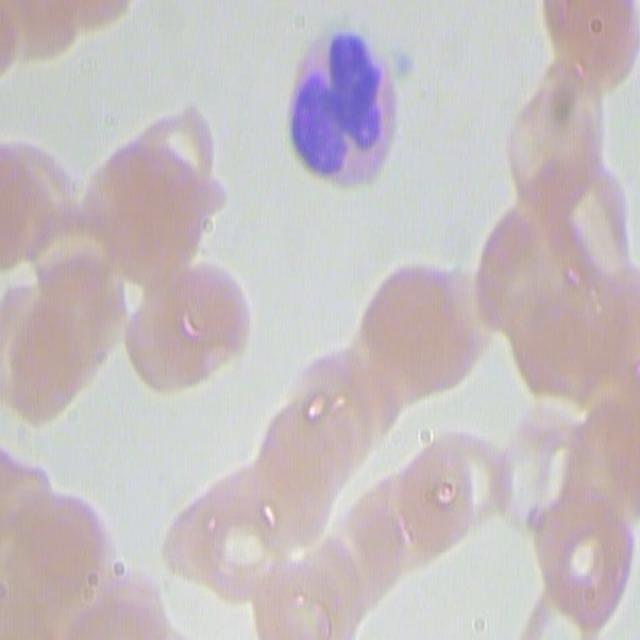RBC: (79, 96, 220, 274), (250, 352, 366, 543), (349, 260, 486, 414), (114, 250, 243, 394), (393, 421, 509, 560), (164, 475, 287, 606), (526, 492, 636, 628), (246, 538, 361, 638), (489, 410, 584, 531), (539, 0, 637, 78), (516, 588, 605, 640)
WBC: (273, 20, 403, 187)
